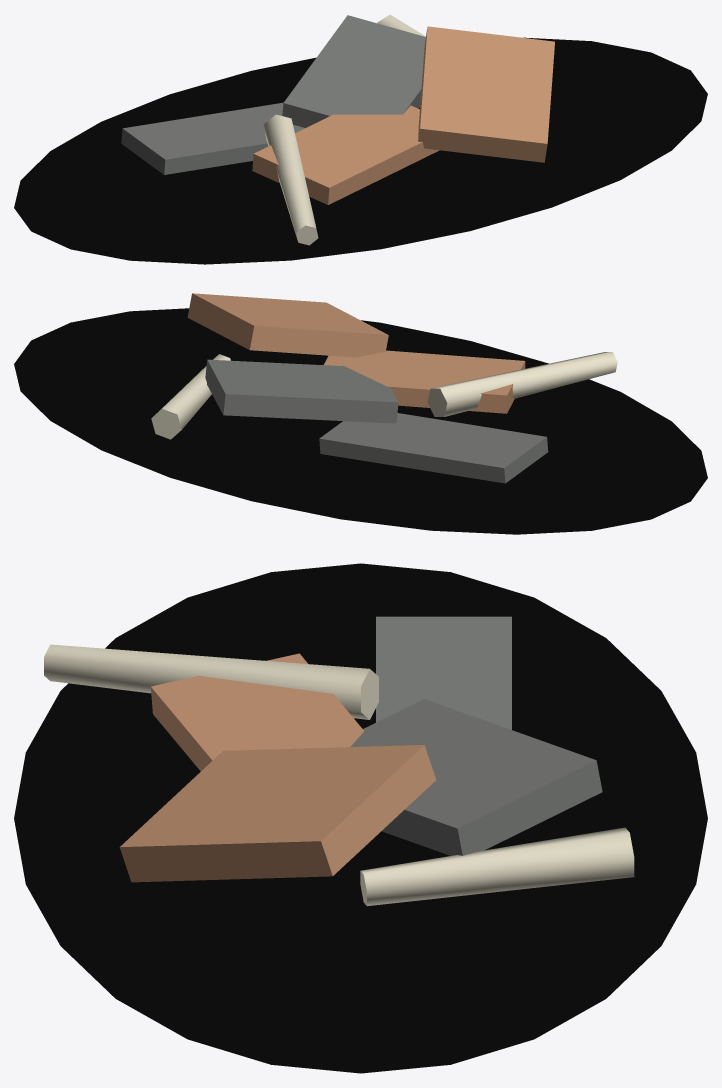
The model's file is perimeter_debris.glb.
The picture shows the model from 3 angles, top to bottom: view 1: azimuth 30°, elevation 25°; view 2: azimuth 150°, elevation 25°; view 3: azimuth 270°, elevation 25°; orthographic projection. The views are drawn at different scales.
Visible parts, largest first — view 1: baked_contact_shadow, debris_plate_3, debris_plate_2, debris_plate_1, debris_plate_0, bone_fragment_a; view 2: baked_contact_shadow, debris_plate_0, debris_plate_2, debris_plate_3, debris_plate_1, bone_fragment_a, bone_fragment_b; view 3: baked_contact_shadow, debris_plate_3, debris_plate_2, debris_plate_0, debris_plate_1, bone_fragment_b, bone_fragment_a.
Boxes of the visible parts, x1=… form: baked_contact_shadow: x1=14, y1=37, x2=707, y2=264; debris_plate_3: x1=418, y1=26, x2=554, y2=162; debris_plate_2: x1=282, y1=15, x2=425, y2=127; debris_plate_1: x1=252, y1=105, x2=439, y2=204; debris_plate_0: x1=121, y1=102, x2=305, y2=174; bone_fragment_a: x1=263, y1=114, x2=318, y2=245; baked_contact_shadow: x1=14, y1=308, x2=707, y2=534; debris_plate_0: x1=319, y1=413, x2=548, y2=483; debris_plate_2: x1=205, y1=359, x2=398, y2=423; debris_plate_3: x1=187, y1=293, x2=388, y2=357; debris_plate_1: x1=324, y1=350, x2=525, y2=413; bone_fragment_a: x1=427, y1=352, x2=617, y2=416; bone_fragment_b: x1=151, y1=354, x2=230, y2=439; baked_contact_shadow: x1=14, y1=563, x2=707, y2=1073; debris_plate_3: x1=119, y1=745, x2=436, y2=882; debris_plate_2: x1=350, y1=699, x2=602, y2=855; debris_plate_0: x1=376, y1=616, x2=511, y2=729; debris_plate_1: x1=150, y1=653, x2=363, y2=771; bone_fragment_b: x1=360, y1=827, x2=634, y2=906; bone_fragment_a: x1=44, y1=644, x2=378, y2=719.
Bounding box in the file's own units: 1.6 × 0.2056 × 0.92.
